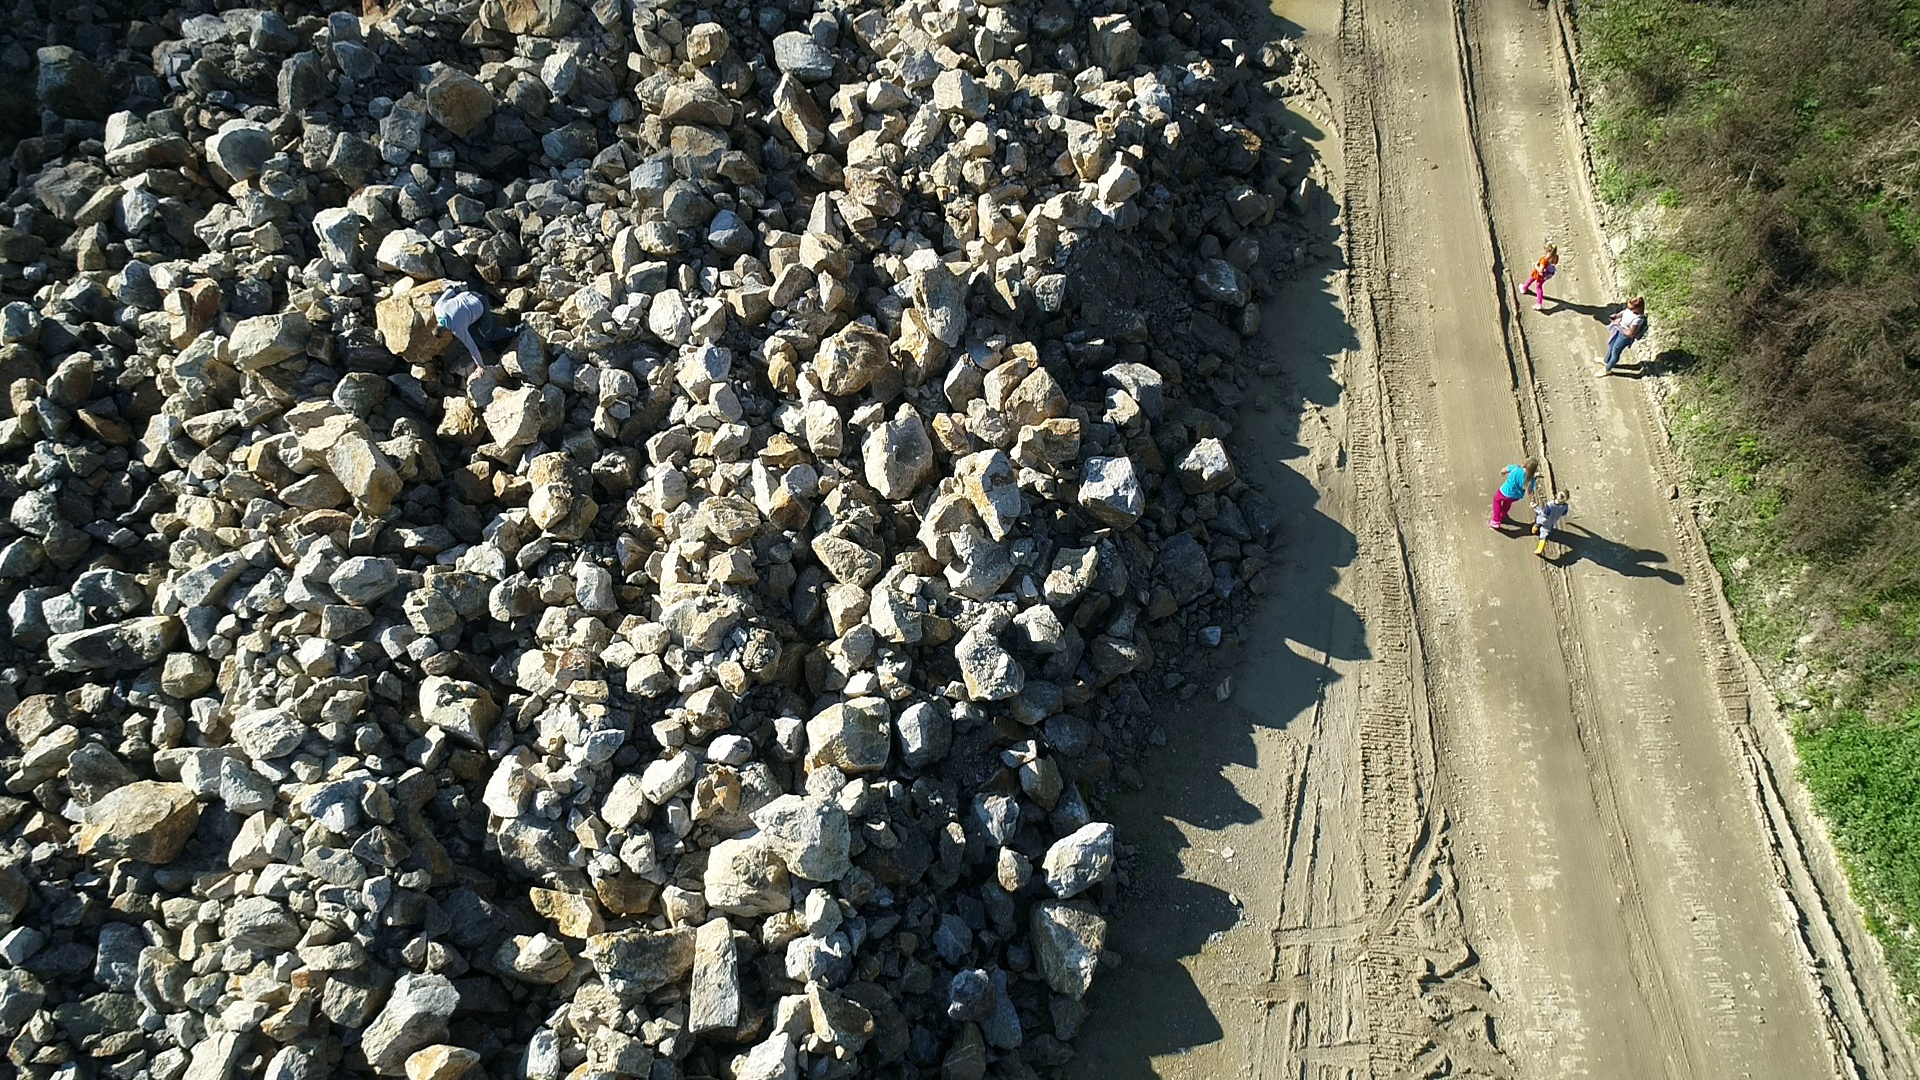not_defined: (430, 283, 511, 371)
person: (1594, 295, 1646, 382), (1488, 455, 1538, 530), (1517, 241, 1559, 312), (1531, 489, 1571, 554)
